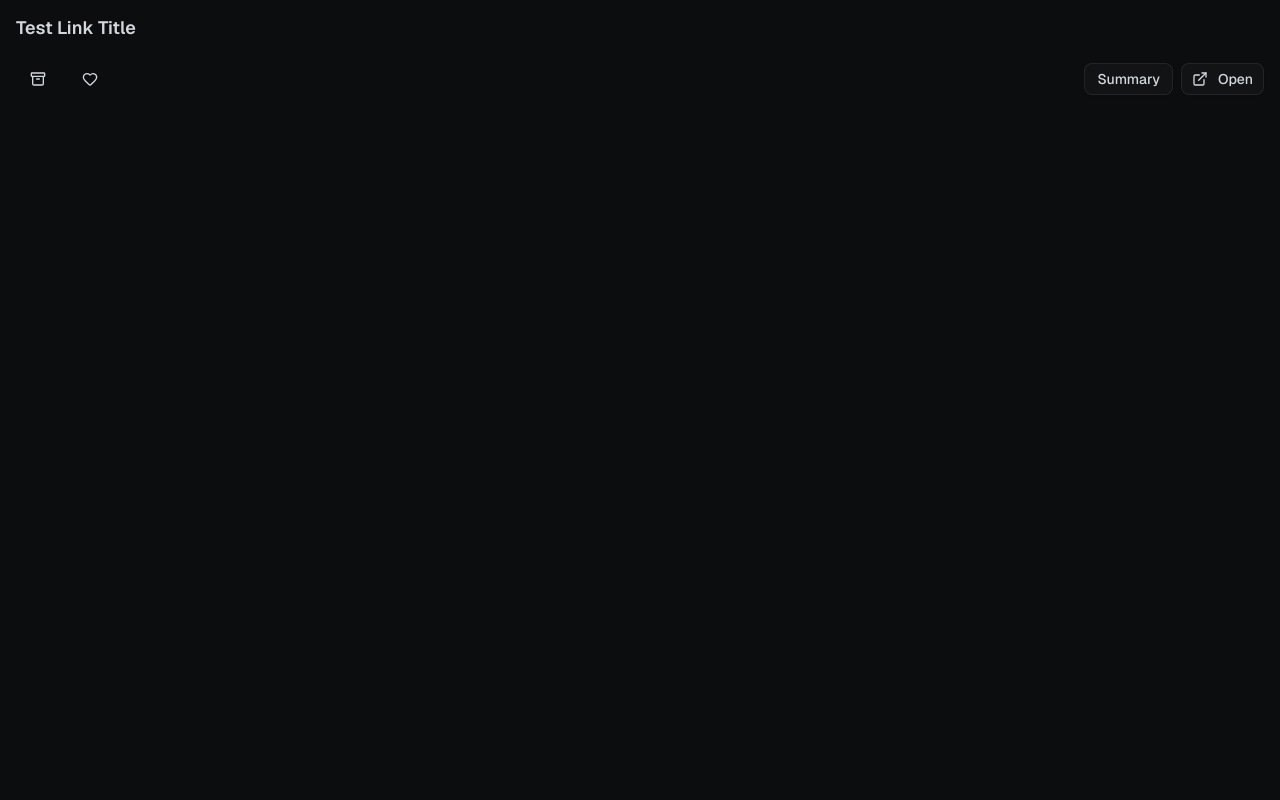
shows error message and Retry in Summary modal when failed
What coordinates should you click on to do the following:
click the button "Summary"
I would click on:
 (1129, 79)
Its box is [1084,63,1173,95].
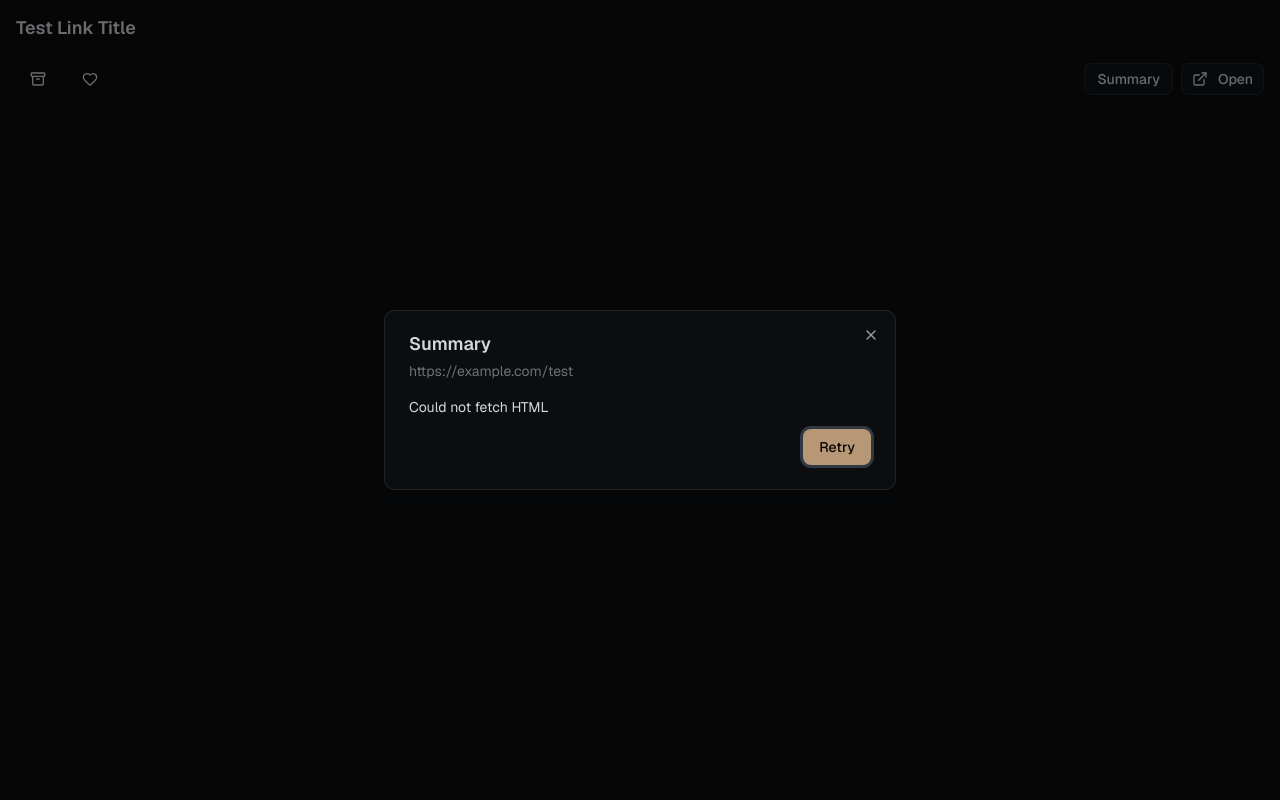
Expected: the text "Could not fetch HTML" is shown, [409,398,549,416]
Expected: the button "Retry" is shown, [803,429,871,465]
